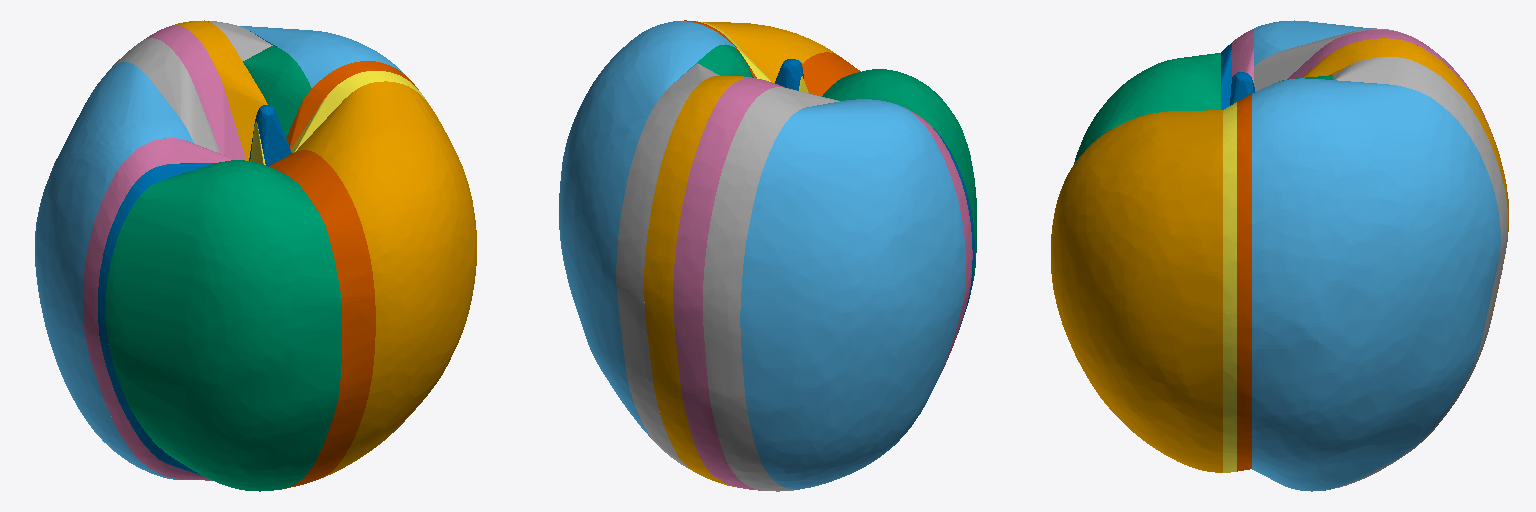
The robot description file, URDF, robot "root":
<?xml version='1.0' encoding='UTF-8'?>
<robot name="root">
  <link name="link_convex_piece_000.obj">
    <inertial>
      <origin xyz="0 0 0" rpy="0 0 0"/>
    </inertial>
    <visual>
      <origin xyz="0 0 0" rpy="0 0 0"/>
      <geometry>
        <mesh filename="meshes/convex_piece_000.obj" scale="1.0 1.0 1.0"/>
      </geometry>
    </visual>
    <collision>
      <origin xyz="0 0 0" rpy="0 0 0"/>
      <geometry>
        <mesh filename="meshes/convex_piece_000.obj" scale="1.0 1.0 1.0"/>
      </geometry>
    </collision>
  </link>
  <link name="link_convex_piece_001.obj">
    <inertial>
      <origin xyz="0 0 0" rpy="0 0 0"/>
    </inertial>
    <visual>
      <origin xyz="0 0 0" rpy="0 0 0"/>
      <geometry>
        <mesh filename="meshes/convex_piece_001.obj" scale="1.0 1.0 1.0"/>
      </geometry>
    </visual>
    <collision>
      <origin xyz="0 0 0" rpy="0 0 0"/>
      <geometry>
        <mesh filename="meshes/convex_piece_001.obj" scale="1.0 1.0 1.0"/>
      </geometry>
    </collision>
  </link>
  <link name="link_convex_piece_002.obj">
    <inertial>
      <origin xyz="0 0 0" rpy="0 0 0"/>
    </inertial>
    <visual>
      <origin xyz="0 0 0" rpy="0 0 0"/>
      <geometry>
        <mesh filename="meshes/convex_piece_002.obj" scale="1.0 1.0 1.0"/>
      </geometry>
    </visual>
    <collision>
      <origin xyz="0 0 0" rpy="0 0 0"/>
      <geometry>
        <mesh filename="meshes/convex_piece_002.obj" scale="1.0 1.0 1.0"/>
      </geometry>
    </collision>
  </link>
  <link name="link_convex_piece_003.obj">
    <inertial>
      <origin xyz="0 0 0" rpy="0 0 0"/>
    </inertial>
    <visual>
      <origin xyz="0 0 0" rpy="0 0 0"/>
      <geometry>
        <mesh filename="meshes/convex_piece_003.obj" scale="1.0 1.0 1.0"/>
      </geometry>
    </visual>
    <collision>
      <origin xyz="0 0 0" rpy="0 0 0"/>
      <geometry>
        <mesh filename="meshes/convex_piece_003.obj" scale="1.0 1.0 1.0"/>
      </geometry>
    </collision>
  </link>
  <link name="link_convex_piece_004.obj">
    <inertial>
      <origin xyz="0 0 0" rpy="0 0 0"/>
    </inertial>
    <visual>
      <origin xyz="0 0 0" rpy="0 0 0"/>
      <geometry>
        <mesh filename="meshes/convex_piece_004.obj" scale="1.0 1.0 1.0"/>
      </geometry>
    </visual>
    <collision>
      <origin xyz="0 0 0" rpy="0 0 0"/>
      <geometry>
        <mesh filename="meshes/convex_piece_004.obj" scale="1.0 1.0 1.0"/>
      </geometry>
    </collision>
  </link>
  <link name="link_convex_piece_005.obj">
    <inertial>
      <origin xyz="0 0 0" rpy="0 0 0"/>
    </inertial>
    <visual>
      <origin xyz="0 0 0" rpy="0 0 0"/>
      <geometry>
        <mesh filename="meshes/convex_piece_005.obj" scale="1.0 1.0 1.0"/>
      </geometry>
    </visual>
    <collision>
      <origin xyz="0 0 0" rpy="0 0 0"/>
      <geometry>
        <mesh filename="meshes/convex_piece_005.obj" scale="1.0 1.0 1.0"/>
      </geometry>
    </collision>
  </link>
  <link name="link_convex_piece_006.obj">
    <inertial>
      <origin xyz="0 0 0" rpy="0 0 0"/>
    </inertial>
    <visual>
      <origin xyz="0 0 0" rpy="0 0 0"/>
      <geometry>
        <mesh filename="meshes/convex_piece_006.obj" scale="1.0 1.0 1.0"/>
      </geometry>
    </visual>
    <collision>
      <origin xyz="0 0 0" rpy="0 0 0"/>
      <geometry>
        <mesh filename="meshes/convex_piece_006.obj" scale="1.0 1.0 1.0"/>
      </geometry>
    </collision>
  </link>
  <link name="link_convex_piece_007.obj">
    <inertial>
      <origin xyz="0 0 0" rpy="0 0 0"/>
    </inertial>
    <visual>
      <origin xyz="0 0 0" rpy="0 0 0"/>
      <geometry>
        <mesh filename="meshes/convex_piece_007.obj" scale="1.0 1.0 1.0"/>
      </geometry>
    </visual>
    <collision>
      <origin xyz="0 0 0" rpy="0 0 0"/>
      <geometry>
        <mesh filename="meshes/convex_piece_007.obj" scale="1.0 1.0 1.0"/>
      </geometry>
    </collision>
  </link>
  <link name="link_convex_piece_008.obj">
    <inertial>
      <origin xyz="0 0 0" rpy="0 0 0"/>
    </inertial>
    <visual>
      <origin xyz="0 0 0" rpy="0 0 0"/>
      <geometry>
        <mesh filename="meshes/convex_piece_008.obj" scale="1.0 1.0 1.0"/>
      </geometry>
    </visual>
    <collision>
      <origin xyz="0 0 0" rpy="0 0 0"/>
      <geometry>
        <mesh filename="meshes/convex_piece_008.obj" scale="1.0 1.0 1.0"/>
      </geometry>
    </collision>
  </link>
  <link name="link_convex_piece_009.obj">
    <inertial>
      <origin xyz="0 0 0" rpy="0 0 0"/>
    </inertial>
    <visual>
      <origin xyz="0 0 0" rpy="0 0 0"/>
      <geometry>
        <mesh filename="meshes/convex_piece_009.obj" scale="1.0 1.0 1.0"/>
      </geometry>
    </visual>
    <collision>
      <origin xyz="0 0 0" rpy="0 0 0"/>
      <geometry>
        <mesh filename="meshes/convex_piece_009.obj" scale="1.0 1.0 1.0"/>
      </geometry>
    </collision>
  </link>
  <link name="link_convex_piece_010.obj">
    <inertial>
      <origin xyz="0 0 0" rpy="0 0 0"/>
    </inertial>
    <visual>
      <origin xyz="0 0 0" rpy="0 0 0"/>
      <geometry>
        <mesh filename="meshes/convex_piece_010.obj" scale="1.0 1.0 1.0"/>
      </geometry>
    </visual>
    <collision>
      <origin xyz="0 0 0" rpy="0 0 0"/>
      <geometry>
        <mesh filename="meshes/convex_piece_010.obj" scale="1.0 1.0 1.0"/>
      </geometry>
    </collision>
  </link>
  <link name="link_convex_piece_011.obj">
    <inertial>
      <origin xyz="0 0 0" rpy="0 0 0"/>
    </inertial>
    <visual>
      <origin xyz="0 0 0" rpy="0 0 0"/>
      <geometry>
        <mesh filename="meshes/convex_piece_011.obj" scale="1.0 1.0 1.0"/>
      </geometry>
    </visual>
    <collision>
      <origin xyz="0 0 0" rpy="0 0 0"/>
      <geometry>
        <mesh filename="meshes/convex_piece_011.obj" scale="1.0 1.0 1.0"/>
      </geometry>
    </collision>
  </link>
  <link name="link_convex_piece_012.obj">
    <inertial>
      <origin xyz="0 0 0" rpy="0 0 0"/>
    </inertial>
    <visual>
      <origin xyz="0 0 0" rpy="0 0 0"/>
      <geometry>
        <mesh filename="meshes/convex_piece_012.obj" scale="1.0 1.0 1.0"/>
      </geometry>
    </visual>
    <collision>
      <origin xyz="0 0 0" rpy="0 0 0"/>
      <geometry>
        <mesh filename="meshes/convex_piece_012.obj" scale="1.0 1.0 1.0"/>
      </geometry>
    </collision>
  </link>
  <link name="link_convex_piece_013.obj">
    <inertial>
      <origin xyz="0 0 0" rpy="0 0 0"/>
    </inertial>
    <visual>
      <origin xyz="0 0 0" rpy="0 0 0"/>
      <geometry>
        <mesh filename="meshes/convex_piece_013.obj" scale="1.0 1.0 1.0"/>
      </geometry>
    </visual>
    <collision>
      <origin xyz="0 0 0" rpy="0 0 0"/>
      <geometry>
        <mesh filename="meshes/convex_piece_013.obj" scale="1.0 1.0 1.0"/>
      </geometry>
    </collision>
  </link>
  <link name="link_convex_piece_014.obj">
    <inertial>
      <origin xyz="0 0 0" rpy="0 0 0"/>
    </inertial>
    <visual>
      <origin xyz="0 0 0" rpy="0 0 0"/>
      <geometry>
        <mesh filename="meshes/convex_piece_014.obj" scale="1.0 1.0 1.0"/>
      </geometry>
    </visual>
    <collision>
      <origin xyz="0 0 0" rpy="0 0 0"/>
      <geometry>
        <mesh filename="meshes/convex_piece_014.obj" scale="1.0 1.0 1.0"/>
      </geometry>
    </collision>
  </link>
  <link name="link_convex_piece_015.obj">
    <inertial>
      <origin xyz="0 0 0" rpy="0 0 0"/>
    </inertial>
    <visual>
      <origin xyz="0 0 0" rpy="0 0 0"/>
      <geometry>
        <mesh filename="meshes/convex_piece_015.obj" scale="1.0 1.0 1.0"/>
      </geometry>
    </visual>
    <collision>
      <origin xyz="0 0 0" rpy="0 0 0"/>
      <geometry>
        <mesh filename="meshes/convex_piece_015.obj" scale="1.0 1.0 1.0"/>
      </geometry>
    </collision>
  </link>
  <joint name="link_convex_piece_001.obj_joint" type="fixed">
    <origin xyz="0 0 0" rpy="0 0 0"/>
    <parent link="link_convex_piece_000.obj"/>
    <child link="link_convex_piece_001.obj"/>
  </joint>
  <joint name="link_convex_piece_002.obj_joint" type="fixed">
    <origin xyz="0 0 0" rpy="0 0 0"/>
    <parent link="link_convex_piece_000.obj"/>
    <child link="link_convex_piece_002.obj"/>
  </joint>
  <joint name="link_convex_piece_003.obj_joint" type="fixed">
    <origin xyz="0 0 0" rpy="0 0 0"/>
    <parent link="link_convex_piece_000.obj"/>
    <child link="link_convex_piece_003.obj"/>
  </joint>
  <joint name="link_convex_piece_004.obj_joint" type="fixed">
    <origin xyz="0 0 0" rpy="0 0 0"/>
    <parent link="link_convex_piece_000.obj"/>
    <child link="link_convex_piece_004.obj"/>
  </joint>
  <joint name="link_convex_piece_005.obj_joint" type="fixed">
    <origin xyz="0 0 0" rpy="0 0 0"/>
    <parent link="link_convex_piece_000.obj"/>
    <child link="link_convex_piece_005.obj"/>
  </joint>
  <joint name="link_convex_piece_006.obj_joint" type="fixed">
    <origin xyz="0 0 0" rpy="0 0 0"/>
    <parent link="link_convex_piece_000.obj"/>
    <child link="link_convex_piece_006.obj"/>
  </joint>
  <joint name="link_convex_piece_007.obj_joint" type="fixed">
    <origin xyz="0 0 0" rpy="0 0 0"/>
    <parent link="link_convex_piece_000.obj"/>
    <child link="link_convex_piece_007.obj"/>
  </joint>
  <joint name="link_convex_piece_008.obj_joint" type="fixed">
    <origin xyz="0 0 0" rpy="0 0 0"/>
    <parent link="link_convex_piece_000.obj"/>
    <child link="link_convex_piece_008.obj"/>
  </joint>
  <joint name="link_convex_piece_009.obj_joint" type="fixed">
    <origin xyz="0 0 0" rpy="0 0 0"/>
    <parent link="link_convex_piece_000.obj"/>
    <child link="link_convex_piece_009.obj"/>
  </joint>
  <joint name="link_convex_piece_010.obj_joint" type="fixed">
    <origin xyz="0 0 0" rpy="0 0 0"/>
    <parent link="link_convex_piece_000.obj"/>
    <child link="link_convex_piece_010.obj"/>
  </joint>
  <joint name="link_convex_piece_011.obj_joint" type="fixed">
    <origin xyz="0 0 0" rpy="0 0 0"/>
    <parent link="link_convex_piece_000.obj"/>
    <child link="link_convex_piece_011.obj"/>
  </joint>
  <joint name="link_convex_piece_012.obj_joint" type="fixed">
    <origin xyz="0 0 0" rpy="0 0 0"/>
    <parent link="link_convex_piece_000.obj"/>
    <child link="link_convex_piece_012.obj"/>
  </joint>
  <joint name="link_convex_piece_013.obj_joint" type="fixed">
    <origin xyz="0 0 0" rpy="0 0 0"/>
    <parent link="link_convex_piece_000.obj"/>
    <child link="link_convex_piece_013.obj"/>
  </joint>
  <joint name="link_convex_piece_014.obj_joint" type="fixed">
    <origin xyz="0 0 0" rpy="0 0 0"/>
    <parent link="link_convex_piece_000.obj"/>
    <child link="link_convex_piece_014.obj"/>
  </joint>
  <joint name="link_convex_piece_015.obj_joint" type="fixed">
    <origin xyz="0 0 0" rpy="0 0 0"/>
    <parent link="link_convex_piece_000.obj"/>
    <child link="link_convex_piece_015.obj"/>
  </joint>
</robot>

--- Render facts (derived) ---
The picture shows the robot from 3 angles, left to right: view 1: azimuth 30°, elevation 25°; view 2: azimuth 150°, elevation 25°; view 3: azimuth 270°, elevation 25°; orthographic projection.
Model root with 16 links and 15 joints (15 fixed), rooted at link_convex_piece_000.obj, posed all joints at 0.
Visible links, largest first — view 1: link_convex_piece_002.obj, link_convex_piece_008.obj, link_convex_piece_001.obj, link_convex_piece_005.obj, link_convex_piece_014.obj, link_convex_piece_006.obj, link_convex_piece_007.obj, link_convex_piece_009.obj, link_convex_piece_000.obj, link_convex_piece_012.obj, link_convex_piece_010.obj, link_convex_piece_013.obj (+3 smaller); view 2: link_convex_piece_001.obj, link_convex_piece_009.obj, link_convex_piece_007.obj, link_convex_piece_006.obj, link_convex_piece_000.obj, link_convex_piece_015.obj, link_convex_piece_002.obj, link_convex_piece_008.obj, link_convex_piece_014.obj, link_convex_piece_005.obj, link_convex_piece_010.obj, link_convex_piece_004.obj; view 3: link_convex_piece_009.obj, link_convex_piece_008.obj, link_convex_piece_002.obj, link_convex_piece_015.obj, link_convex_piece_013.obj, link_convex_piece_011.obj, link_convex_piece_000.obj, link_convex_piece_001.obj, link_convex_piece_007.obj, link_convex_piece_006.obj, link_convex_piece_014.obj, link_convex_piece_012.obj (+1 smaller).
Boxes of the visible links, x1,y1,x2,y2 form: link_convex_piece_002.obj: [106, 160, 341, 491]; link_convex_piece_008.obj: [296, 81, 476, 479]; link_convex_piece_001.obj: [35, 62, 193, 479]; link_convex_piece_005.obj: [269, 150, 375, 488]; link_convex_piece_014.obj: [83, 138, 234, 480]; link_convex_piece_006.obj: [144, 25, 245, 160]; link_convex_piece_007.obj: [112, 38, 220, 153]; link_convex_piece_009.obj: [240, 26, 403, 87]; link_convex_piece_000.obj: [175, 20, 267, 160]; link_convex_piece_012.obj: [98, 163, 214, 475]; link_convex_piece_010.obj: [243, 46, 311, 136]; link_convex_piece_013.obj: [286, 61, 418, 149]; link_convex_piece_001.obj: [740, 99, 965, 489]; link_convex_piece_009.obj: [559, 21, 735, 438]; link_convex_piece_007.obj: [703, 87, 839, 491]; link_convex_piece_006.obj: [673, 77, 784, 490]; link_convex_piece_000.obj: [644, 76, 749, 487]; link_convex_piece_015.obj: [616, 63, 719, 472]; link_convex_piece_002.obj: [822, 69, 976, 302]; link_convex_piece_008.obj: [697, 21, 838, 82]; link_convex_piece_014.obj: [899, 105, 972, 374]; link_convex_piece_005.obj: [802, 52, 860, 96]; link_convex_piece_010.obj: [698, 44, 753, 77]; link_convex_piece_004.obj: [775, 59, 803, 90]; link_convex_piece_009.obj: [1252, 78, 1500, 491]; link_convex_piece_008.obj: [1051, 110, 1222, 472]; link_convex_piece_002.obj: [1074, 53, 1220, 163]; link_convex_piece_015.obj: [1333, 57, 1507, 488]; link_convex_piece_013.obj: [1237, 94, 1251, 471]; link_convex_piece_011.obj: [1223, 102, 1236, 472]; link_convex_piece_000.obj: [1303, 38, 1508, 349]; link_convex_piece_001.obj: [1254, 20, 1371, 65]; link_convex_piece_007.obj: [1254, 28, 1417, 91]; link_convex_piece_006.obj: [1288, 30, 1496, 145]; link_convex_piece_014.obj: [1232, 29, 1253, 82]; link_convex_piece_012.obj: [1221, 43, 1231, 109].
Bounding box of the posed robot: 0.0616 × 0.0632 × 0.0659 m (x, y, z).
Meshes: 16 distinct files referenced, 16 mesh visuals loaded (16 OBJ).
